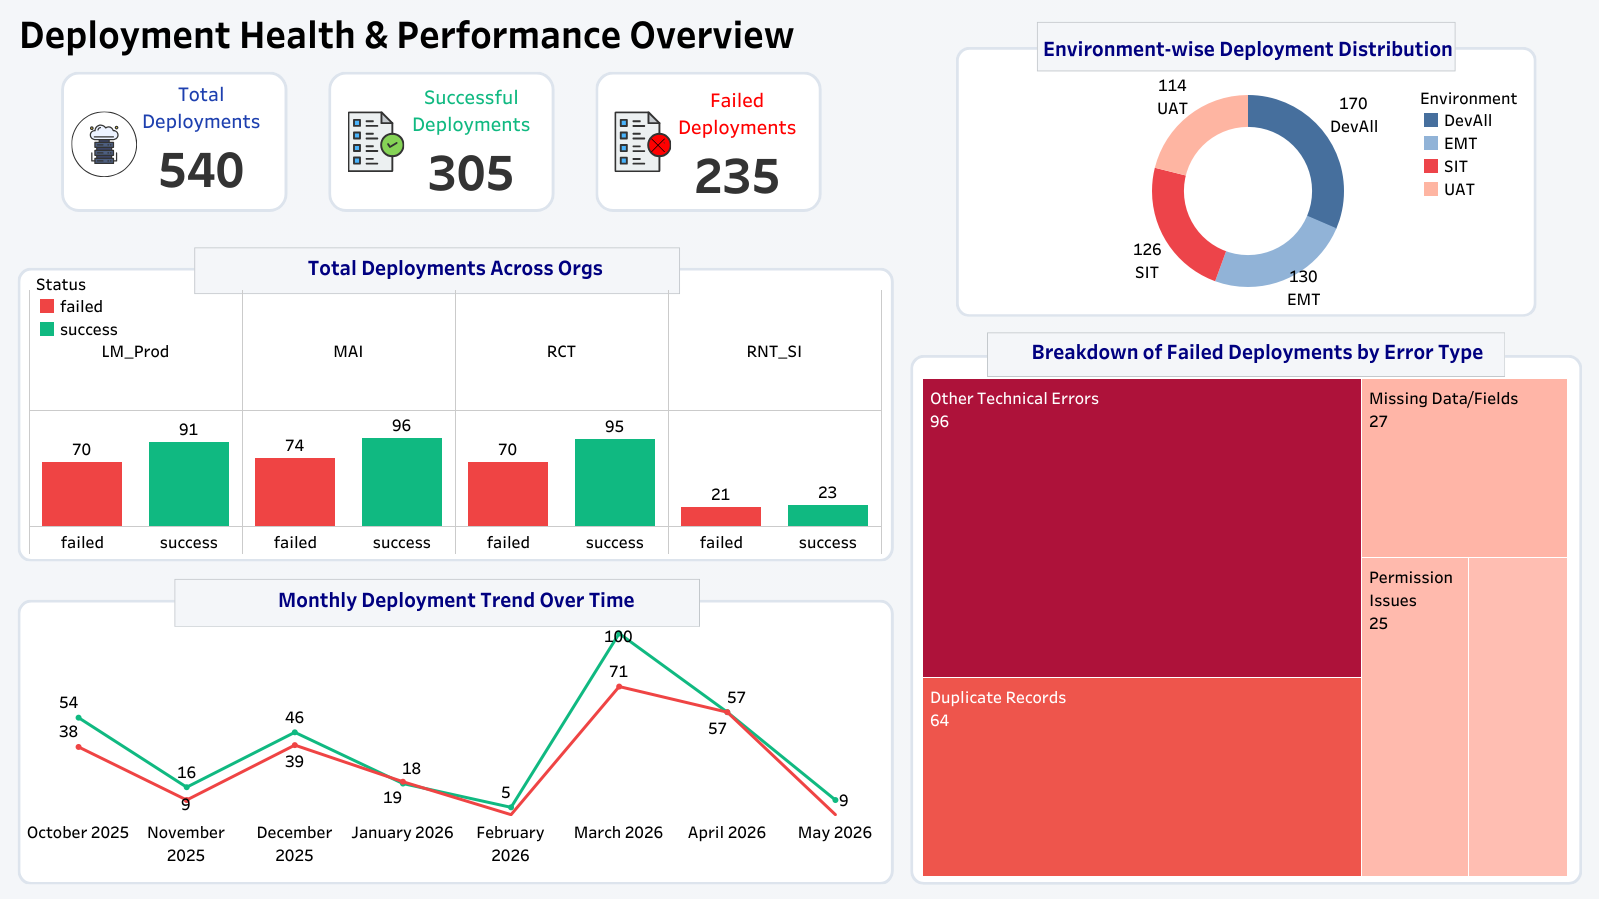

The dashboard page shown, as its layout file describes it:
{"tool":"tableau","page":{"name":"Dashboard 1","canvas":[1600,900],"ordinal":0},"visuals":[{"type":"image","param":"Image/Untitled design (5).png","box":[0,0,1600,900]},{"type":"worksheet","title":"environment wise deployments","mark":"Pie","rows":["Calculation_0014498283974688","Calculation_0014498283974688"],"box":[970,28,556,283]},{"type":"worksheet","title":"Fail deplyments","mark":"Automatic","box":[656,74,163,144]},{"type":"worksheet","title":"Total","mark":"Automatic","box":[114,75,176,131]},{"type":"worksheet","title":"Pass deployments","mark":"Automatic","box":[393,75,157,137]},{"type":"legend","title":"environment wise deployments","param":"[federated.1na6ack0y9gm5x1fy9gq71p3yf25].[none:environment:nk]","box":[1419,84,140,152]},{"type":"worksheet","title":"target//org wise deplyments","mark":"Automatic","rows":["deployment_id"],"cols":["target","status"],"box":[29,247,853,307]},{"type":"legend","title":"target//org wise deplyments","param":"[federated.1na6ack0y9gm5x1fy9gq71p3yf25].[none:status:nk]","box":[35,270,97,89]},{"type":"worksheet","title":"errors details","mark":"Automatic","box":[918,331,653,549]},{"type":"worksheet","title":"trendline","mark":"Automatic","rows":["deployment_id"],"cols":["deployment_date"],"box":[24,579,865,291]}]}

Visuals, with their boxes in screenshot pixels (x1, y1, x2, y2), scaled from the page's 1600x900 canvas onto the 1599x899 screenshot:
image: crop(0, 0, 1598, 898)
"environment wise deployments" worksheet (Pie marks): crop(969, 28, 1525, 311)
"Fail deplyments" worksheet: crop(656, 74, 818, 218)
"Total" worksheet: crop(114, 75, 290, 206)
"Pass deployments" worksheet: crop(393, 75, 550, 212)
"environment wise deployments" legend: crop(1418, 84, 1558, 236)
"target//org wise deplyments" worksheet: crop(29, 247, 881, 553)
"target//org wise deplyments" legend: crop(35, 270, 132, 359)
"errors details" worksheet: crop(917, 331, 1570, 879)
"trendline" worksheet: crop(24, 578, 888, 869)
